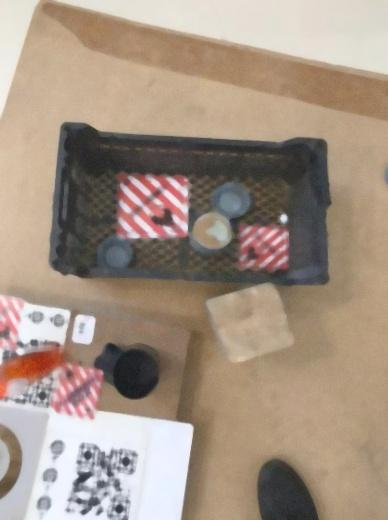flammable-solid: (117, 175, 190, 241), (51, 358, 105, 423), (238, 226, 290, 270)
